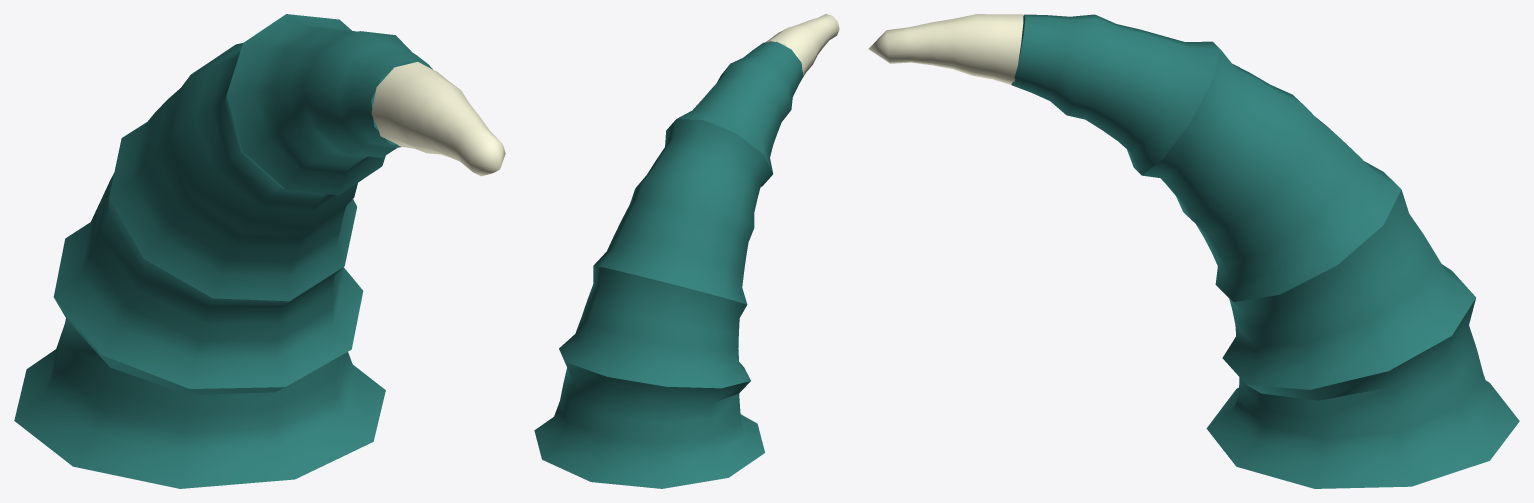
Rendered from horn_curl.glb.
3 views of the same model, side by side, from view 1: azimuth 30°, elevation 25°; view 2: azimuth 150°, elevation 25°; view 3: azimuth 270°, elevation 25° (orthographic). The views are drawn at different scales.
Visible parts, largest first — view 1: horn_curl; view 2: horn_curl; view 3: horn_curl.
Boxes of the visible parts, x1=… form: horn_curl: x1=14, y1=14, x2=505, y2=488; horn_curl: x1=534, y1=14, x2=839, y2=488; horn_curl: x1=868, y1=14, x2=1519, y2=488.
Size of the model in its own units: 0.2553 by 0.3884 by 0.558.
